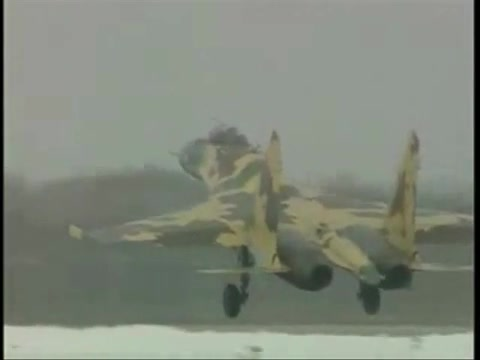aeroplane: (65, 122, 477, 319)
